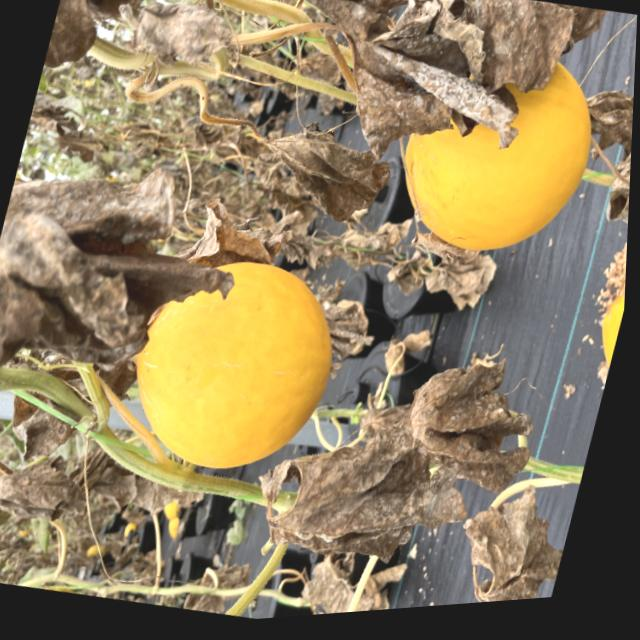bacterial wilt: (380, 0, 591, 122), (263, 419, 417, 577), (400, 327, 537, 493), (322, 74, 452, 181), (251, 121, 375, 230), (458, 480, 560, 604), (187, 190, 288, 286), (0, 442, 79, 557)
